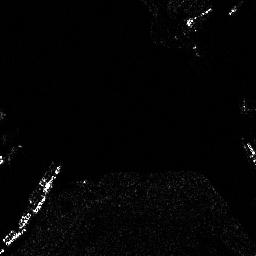ship: (41, 162, 61, 193), (186, 8, 212, 26), (3, 226, 25, 246), (31, 194, 46, 214), (19, 212, 29, 228)
